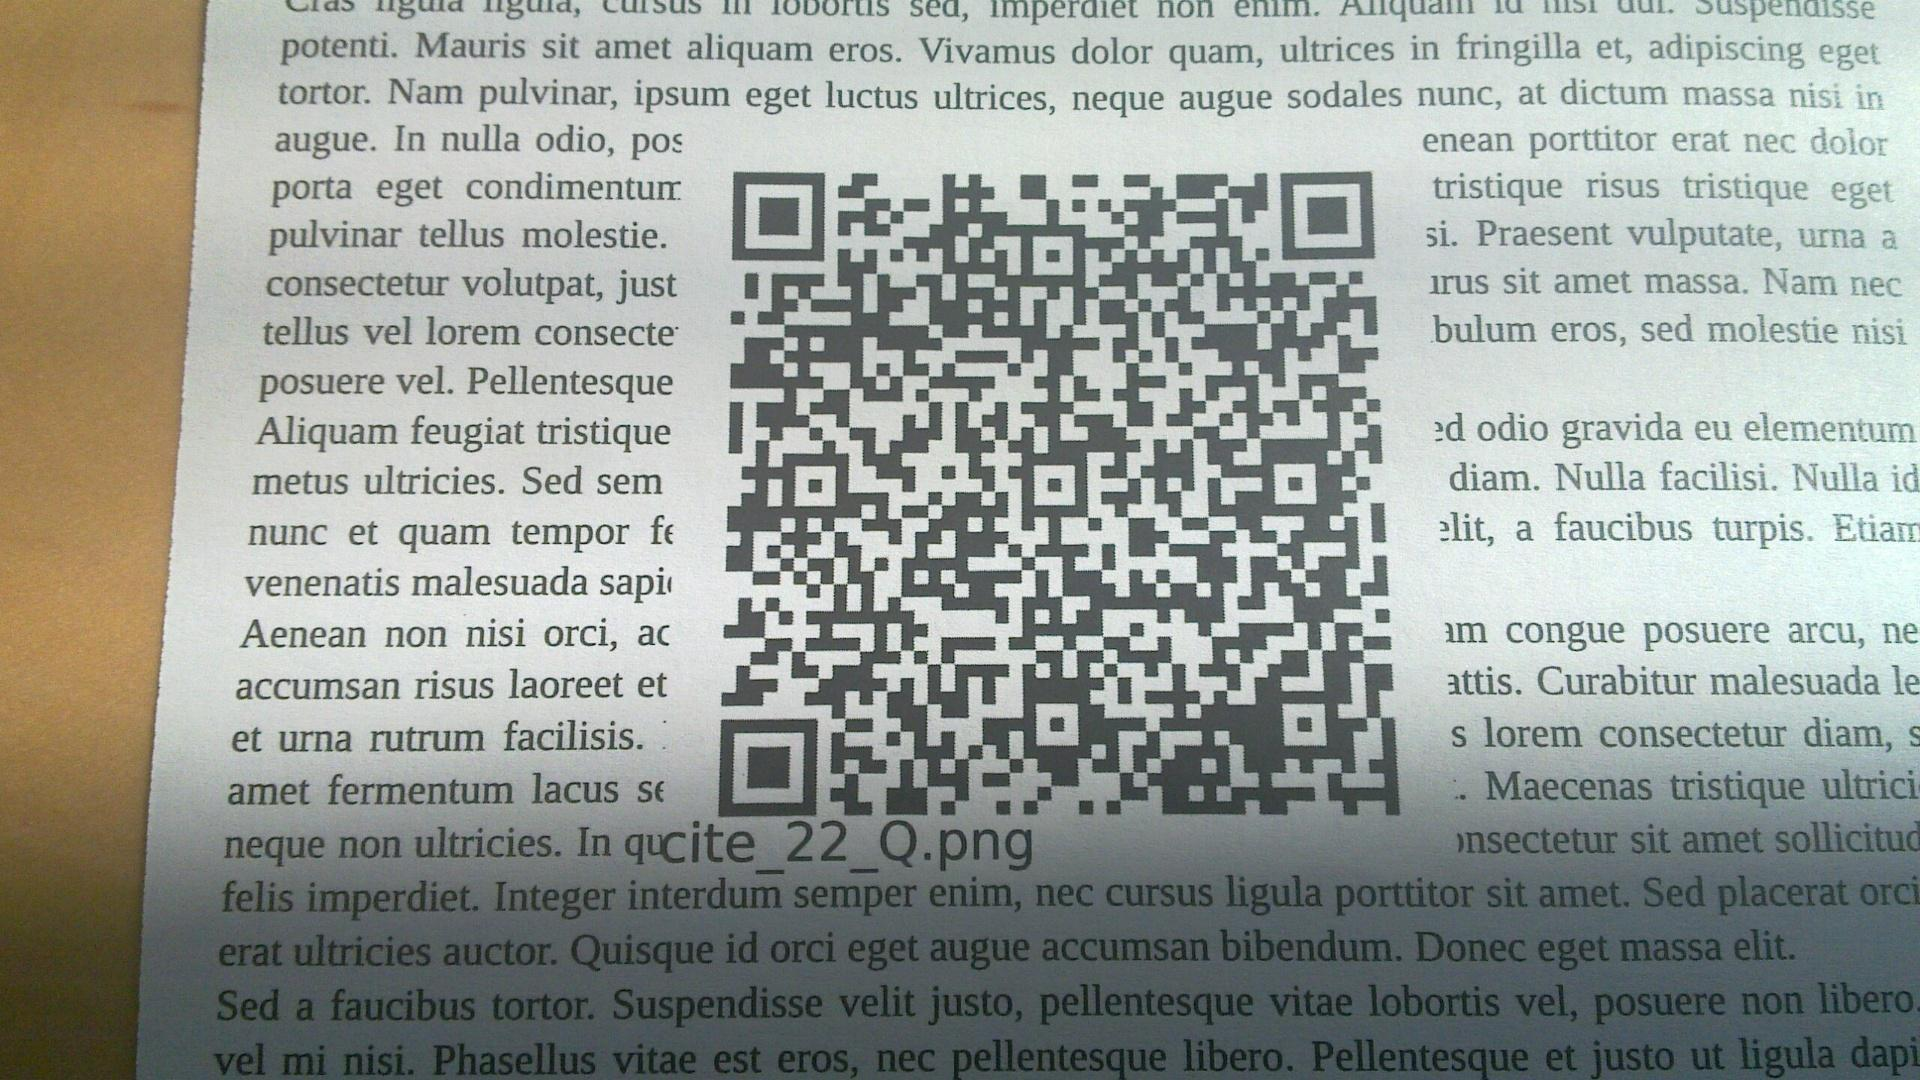Finder pattern: (715, 709, 825, 822), (1273, 165, 1381, 266), (727, 164, 829, 268)
